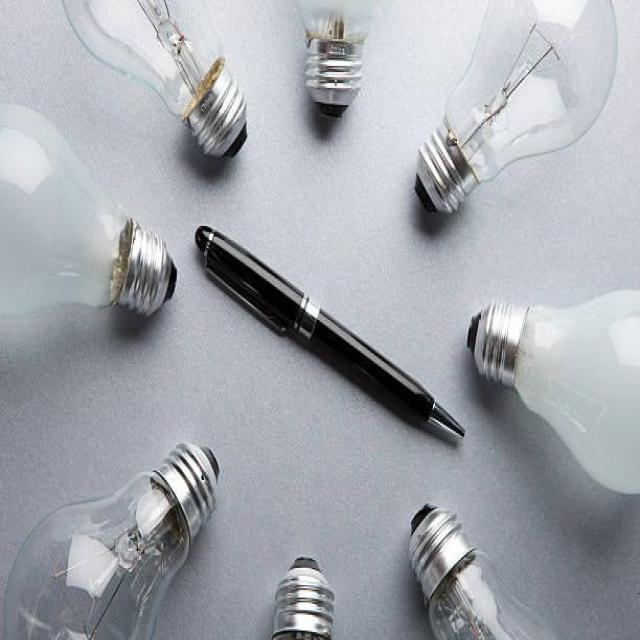electronic: (413, 0, 618, 215), (2, 440, 220, 638), (0, 99, 177, 320), (465, 286, 639, 494), (59, 0, 248, 160), (407, 501, 560, 638), (298, 0, 373, 119), (270, 554, 334, 638)
